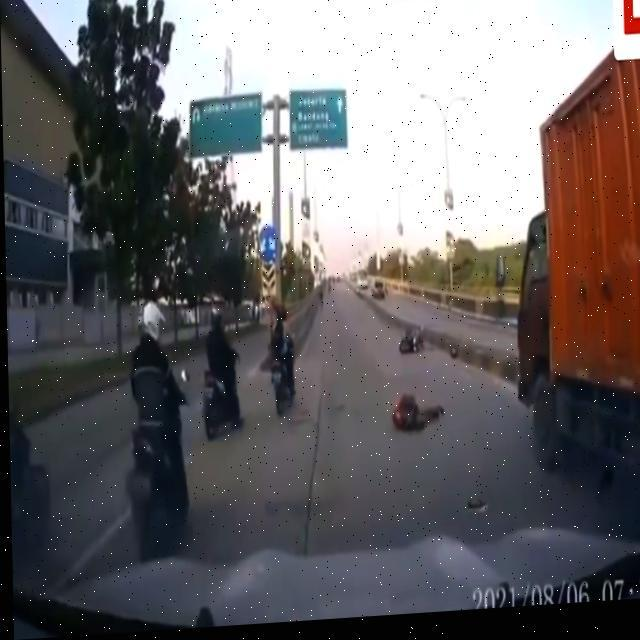normal: (481, 6, 640, 531), (122, 299, 200, 561), (197, 295, 307, 439)
single accident: (395, 316, 449, 442)
